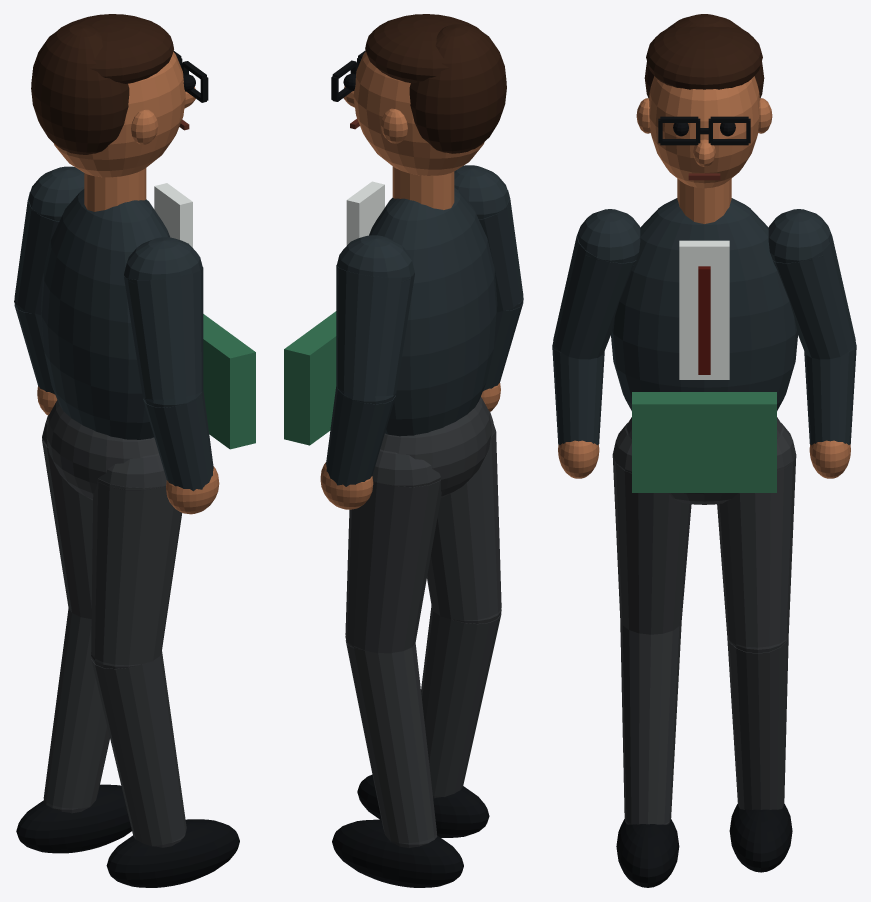
Rendered from person_18.dae.
The picture shows the model from 3 angles, left to right: view 1: azimuth 30°, elevation 25°; view 2: azimuth 150°, elevation 25°; view 3: azimuth 270°, elevation 25°; orthographic projection. The views are drawn at different scales.
Visible parts, largest first — view 1: part0node, part2node, part6node, part1node, part5node, part8node, part3node; view 2: part0node, part2node, part6node, part5node, part1node, part8node, part3node; view 3: part2node, part0node, part8node, part5node, part1node, part6node, part3node, part4node.
Part boxes in pixels (x1=…): part0node: x1=42, y1=400, x2=186, y2=847; part2node: x1=14, y1=166, x2=213, y2=491; part6node: x1=31, y1=14, x2=173, y2=154; part1node: x1=16, y1=51, x2=239, y2=887; part5node: x1=37, y1=52, x2=219, y2=514; part8node: x1=203, y1=314, x2=255, y2=449; part3node: x1=154, y1=183, x2=192, y2=247; part0node: x1=345, y1=397, x2=501, y2=847; part2node: x1=326, y1=165, x2=523, y2=486; part6node: x1=365, y1=14, x2=506, y2=153; part5node: x1=320, y1=51, x2=500, y2=509; part1node: x1=331, y1=50, x2=489, y2=887; part8node: x1=284, y1=311, x2=336, y2=445; part3node: x1=346, y1=181, x2=384, y2=245; part2node: x1=552, y1=198, x2=856, y2=445; part0node: x1=612, y1=417, x2=796, y2=824; part8node: x1=632, y1=392, x2=776, y2=492; part5node: x1=558, y1=76, x2=850, y2=478; part1node: x1=616, y1=116, x2=792, y2=887; part6node: x1=644, y1=14, x2=764, y2=98; part3node: x1=679, y1=240, x2=729, y2=379; part4node: x1=698, y1=266, x2=710, y2=374.
Size of the model in its own units: 0.033 by 0.05 by 0.15.
